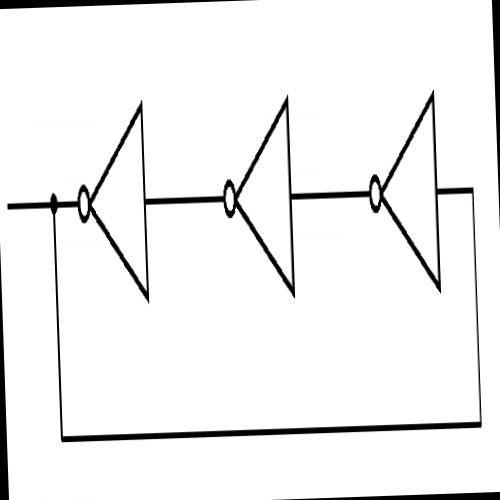not: (358, 69, 453, 316), (213, 70, 301, 316), (70, 77, 156, 322)
